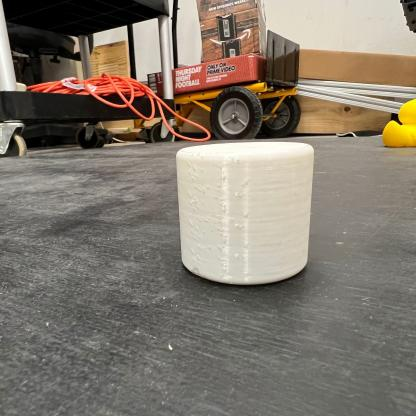white cylinder: (175, 139, 315, 287)
